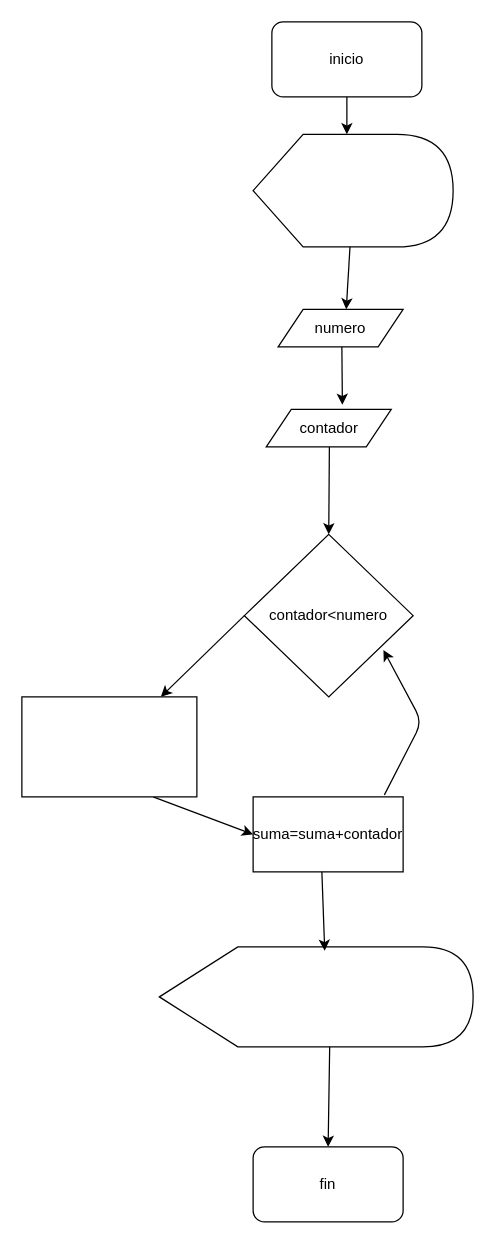
The diagram is 495 pixels wide and 1244 high, and some of its shapes have lost their labels. Each missing label, with the centre of its shape:
"ingrese numero": [352,190]
"todos los numeros del 2 hasta" numero "es igual a" suma: [315,996]
contador=contador+1: [109,746]
